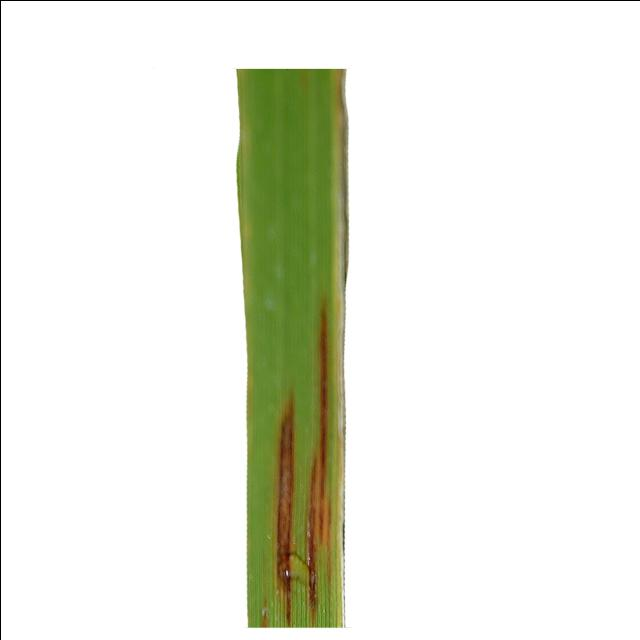Narrow brown: (214, 42, 424, 640)
